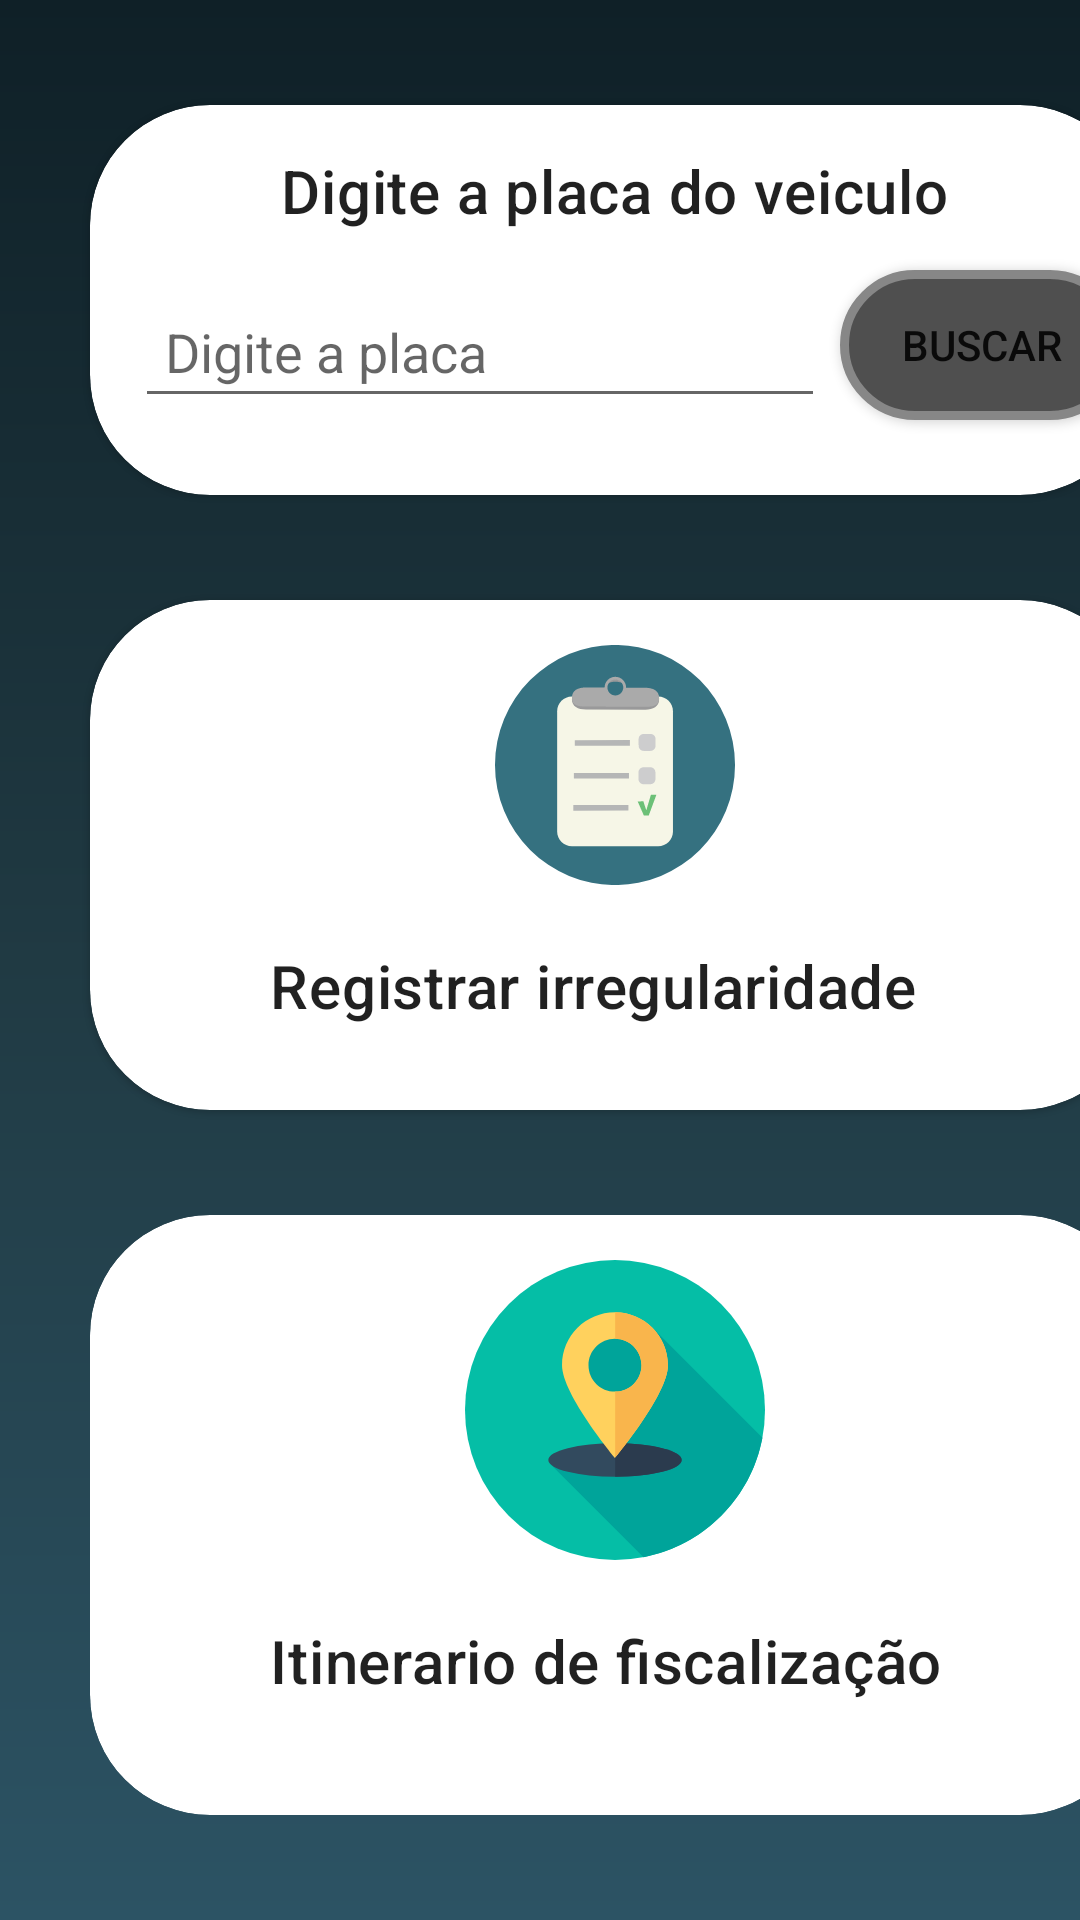

Icons on this 1080w x 1920h Android screen, each with its box as (x1, y1, x2, y2):
maps and flags pin: (465, 1260, 765, 1560)
prancheta: (495, 645, 735, 885)
